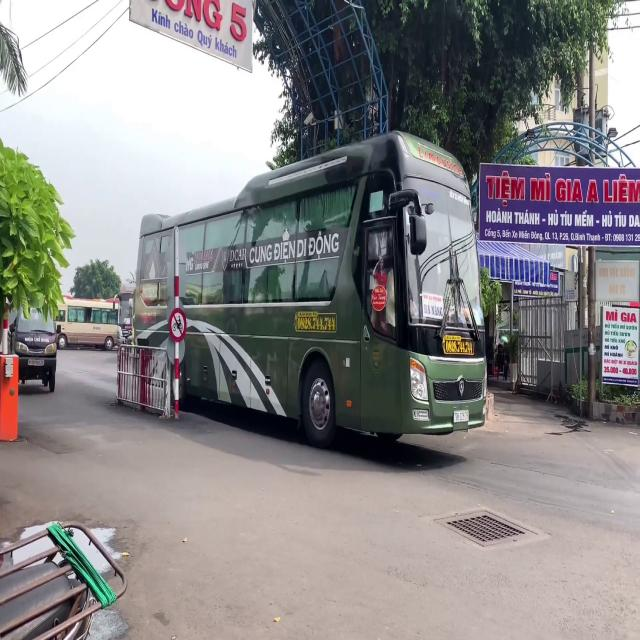bien_trang: (452, 410, 470, 422)
